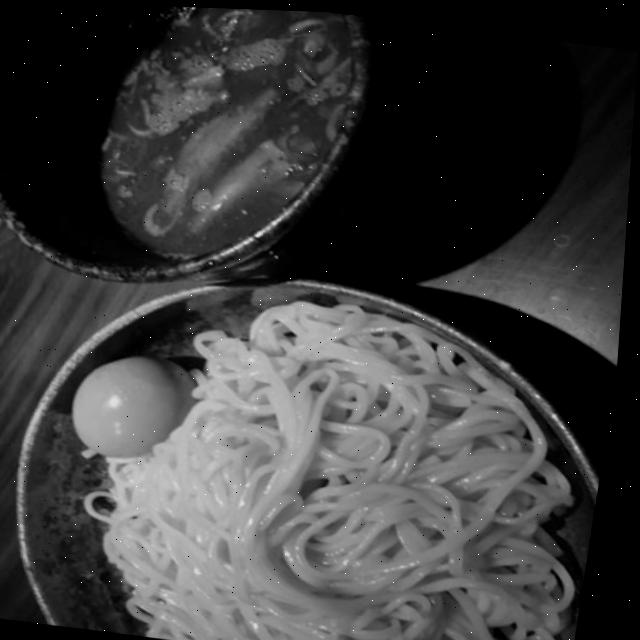面条主食: (36, 2, 640, 640)
